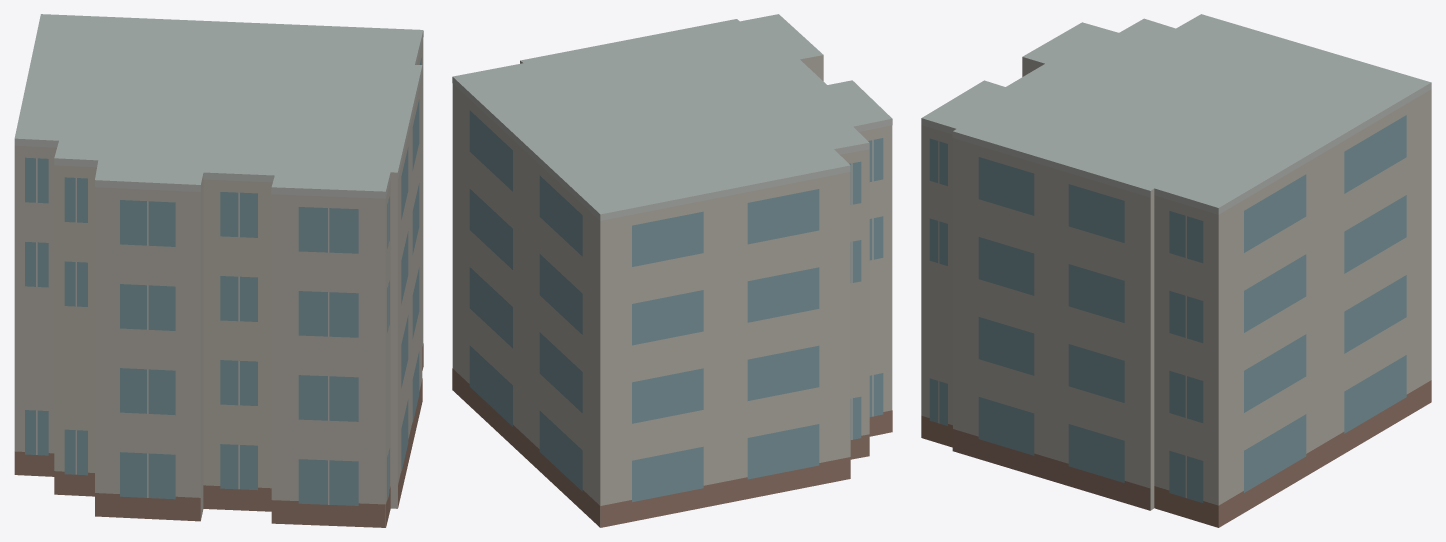
File: survey-upis-32835607.glb
3 renders of one model, left to right at view 1: azimuth 30°, elevation 25°; view 2: azimuth 150°, elevation 25°; view 3: azimuth 270°, elevation 25°, orthographic. The views are drawn at different scales.
Parts seen in each view (by area): view 1: survey-upis-32835607.tmp; view 2: survey-upis-32835607.tmp; view 3: survey-upis-32835607.tmp.
Boxes of the visible parts, x1,y1,x2,y2 form: survey-upis-32835607.tmp: [14, 14, 423, 527]; survey-upis-32835607.tmp: [452, 14, 892, 527]; survey-upis-32835607.tmp: [921, 14, 1431, 527].
Size of the model in its own units: 15.23 by 11.7 by 16.92.
